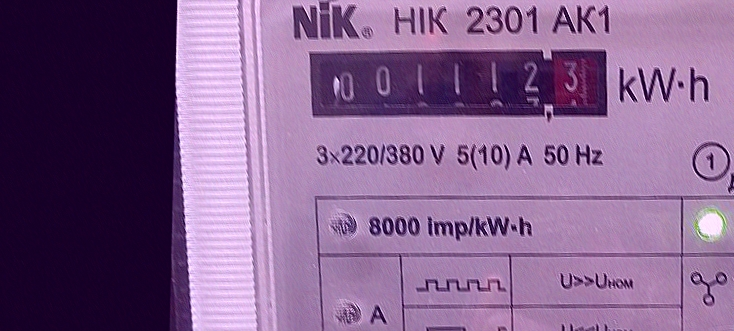0: (372, 60, 395, 99), (336, 66, 359, 102)
1: (411, 58, 430, 96), (449, 58, 464, 96), (487, 57, 502, 94)
2: (520, 57, 543, 94)
3: (561, 57, 580, 93)
screen: (302, 38, 616, 127)
